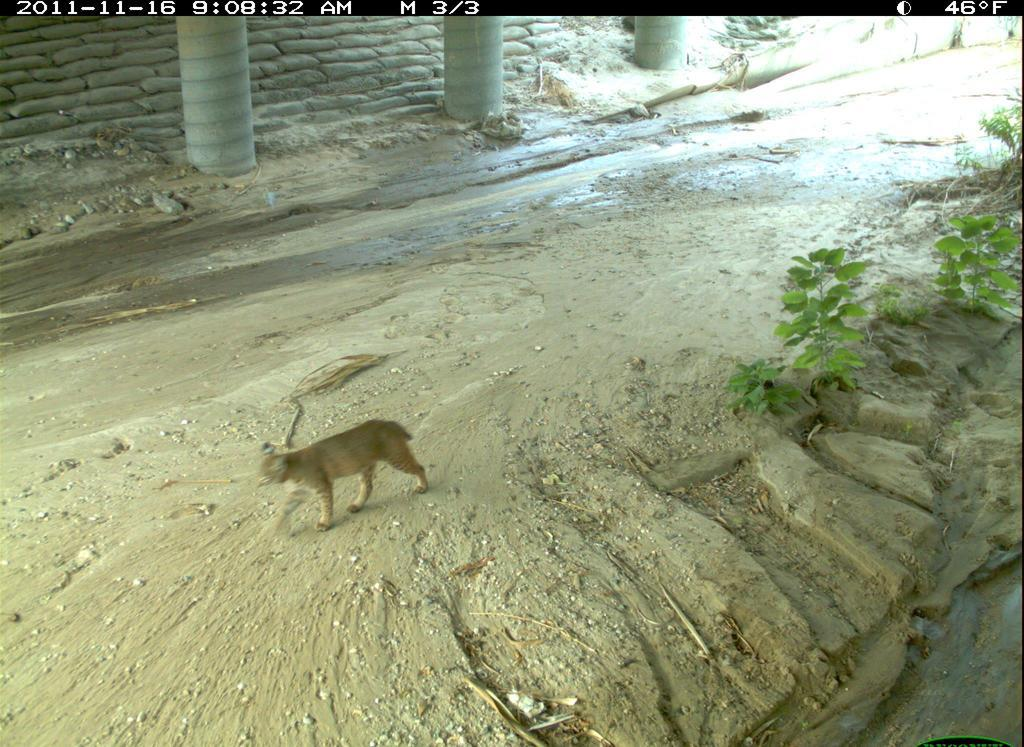bobcat: (250, 415, 437, 536)
